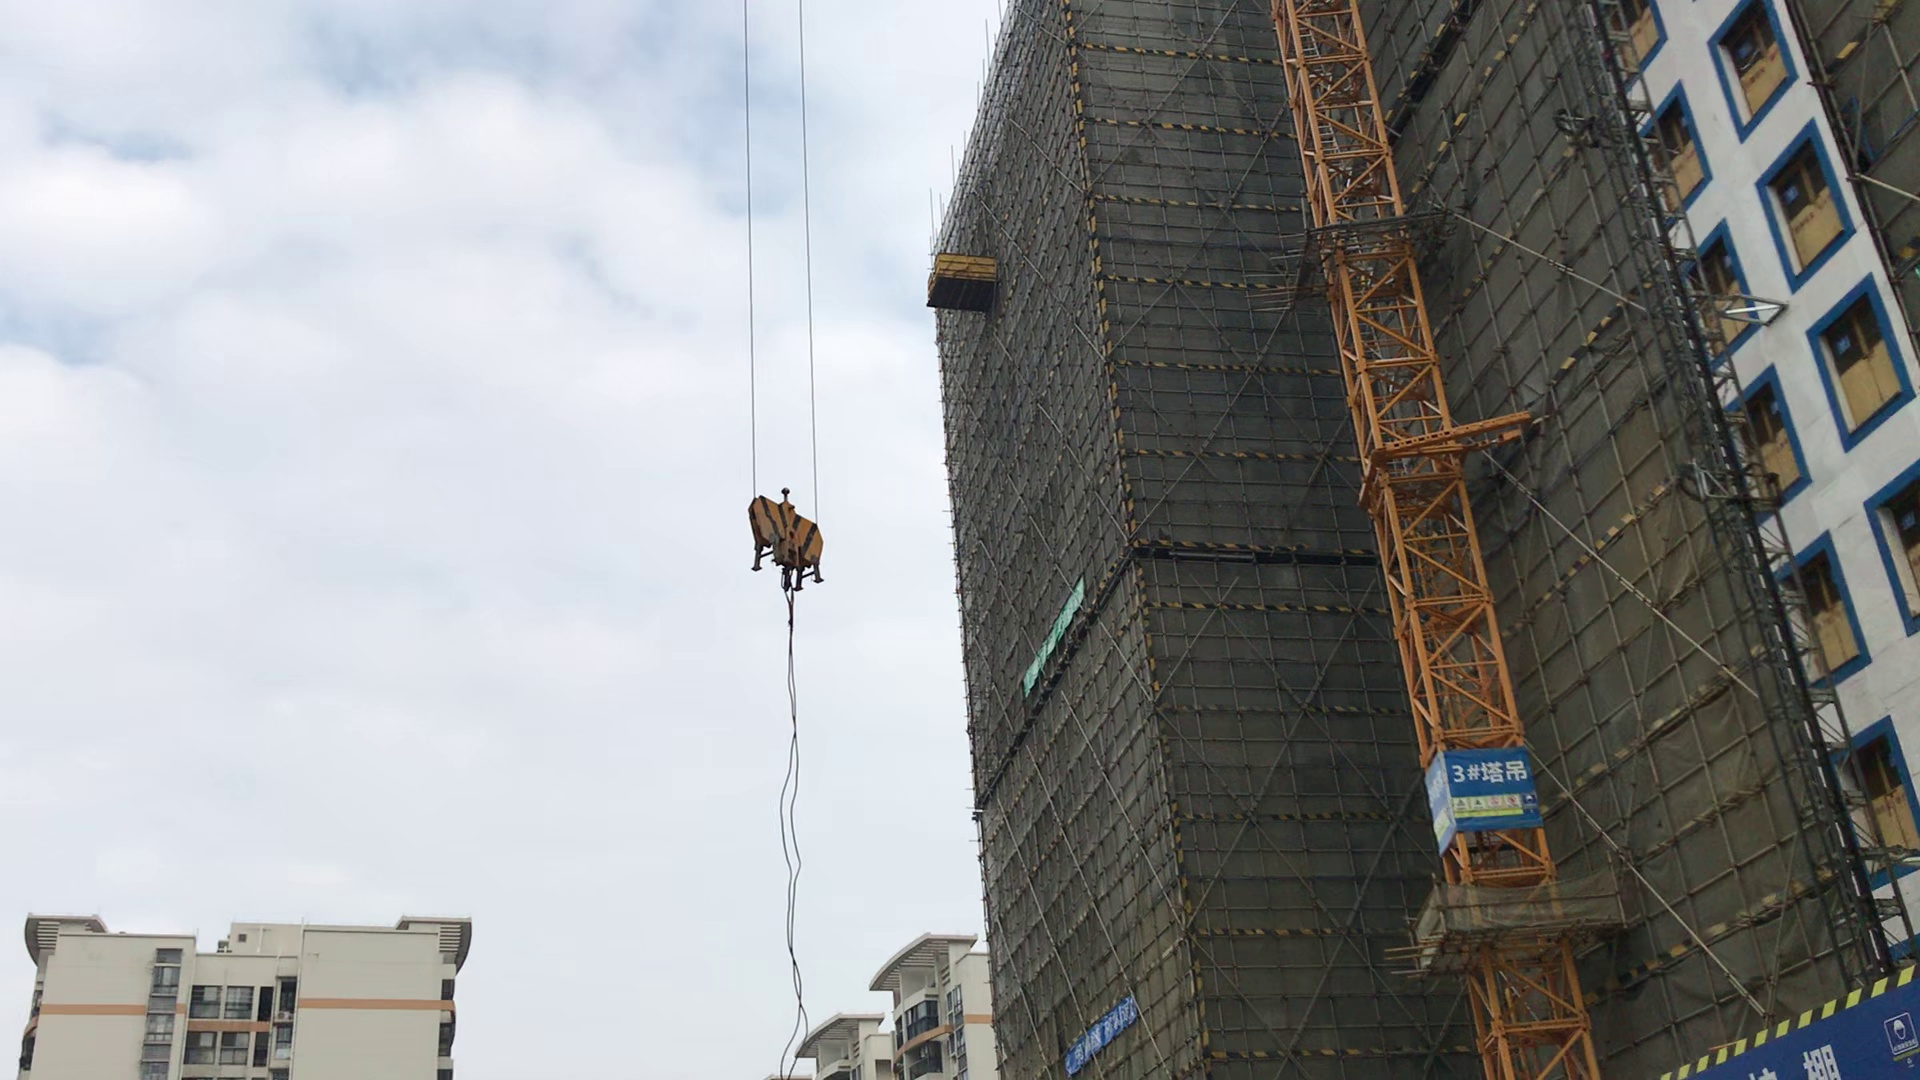hook: (738, 487, 837, 600)
slogan: (1019, 582, 1083, 704), (1065, 1004, 1145, 1069)
